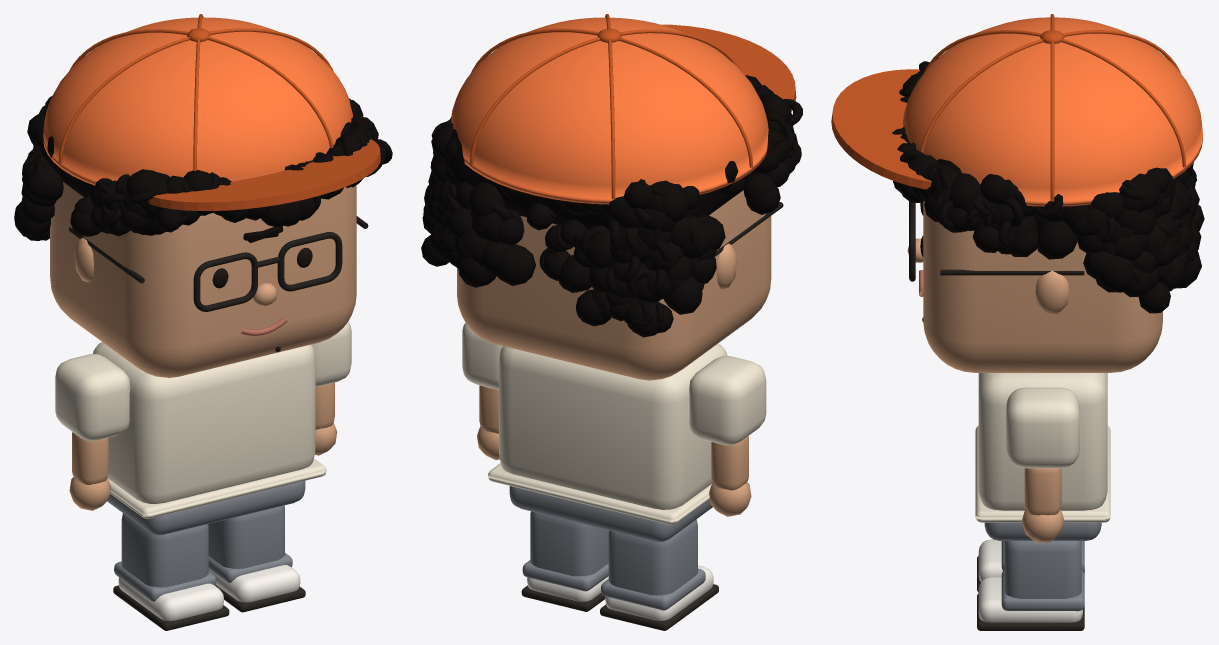
Rendered from goys.glb.
3 renders of one model, left to right at view 1: azimuth 30°, elevation 25°; view 2: azimuth 150°, elevation 25°; view 3: azimuth 270°, elevation 25°, orthographic. The views are drawn at different scales.
Visible parts, largest first — view 1: Cap, Head, Torso, Hair, ArmR, LegR, LegL, Hips, Glasses, shoe, shoe.001, ArmL (+8 smaller); view 2: Cap, Hair, Torso, Head, ArmR, LegR, LegL, Hips, ArmL, fore, cuff, shoe (+7 smaller); view 3: Cap, Head, Hair, Torso, ArmL, LegL, shoe.001, fore.001, Hips, cuff.001, Glasses, sole.001 (+2 smaller).
Boxes of the visible parts, x1,y1,x2,y2 form: Cap: (43, 14, 380, 210); Head: (50, 182, 356, 377); Torso: (93, 342, 326, 518); Hair: (14, 96, 392, 240); ArmR: (55, 354, 130, 440); LegR: (121, 513, 208, 587); LegL: (208, 505, 284, 568); Hips: (107, 481, 305, 535); Glasses: (68, 216, 368, 311); shoe: (118, 577, 223, 621); shoe.001: (208, 565, 300, 602); ArmL: (311, 322, 351, 386); Cap: (451, 14, 796, 204); Hair: (421, 75, 802, 337); Torso: (488, 344, 727, 525); Head: (457, 190, 771, 380); ArmR: (689, 356, 766, 445); LegR: (608, 519, 697, 595); LegL: (530, 511, 608, 576); Hips: (509, 486, 712, 541); ArmL: (462, 323, 503, 389); fore: (711, 436, 748, 490); cuff: (601, 568, 705, 610); shoe: (605, 565, 713, 620); Cap: (831, 14, 1202, 206); Head: (907, 201, 1162, 372); Hair: (892, 61, 1204, 313); Torso: (975, 373, 1110, 522); ArmL: (1006, 387, 1079, 468); LegL: (1004, 541, 1081, 598); shoe.001: (978, 577, 1082, 622); fore.001: (1024, 468, 1061, 515); Hips: (984, 522, 1101, 540); cuff.001: (1001, 570, 1084, 611); Glasses: (909, 201, 1084, 281); sole.001: (977, 593, 1084, 630).
Bounding box in the file's own units: 1.11 × 2.03 × 1.21.
